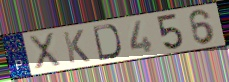4: (128, 19, 155, 54)
5: (155, 12, 184, 51)
6: (188, 8, 218, 47)
D: (91, 23, 123, 62)
K: (61, 28, 92, 65)
X: (27, 31, 64, 71)
